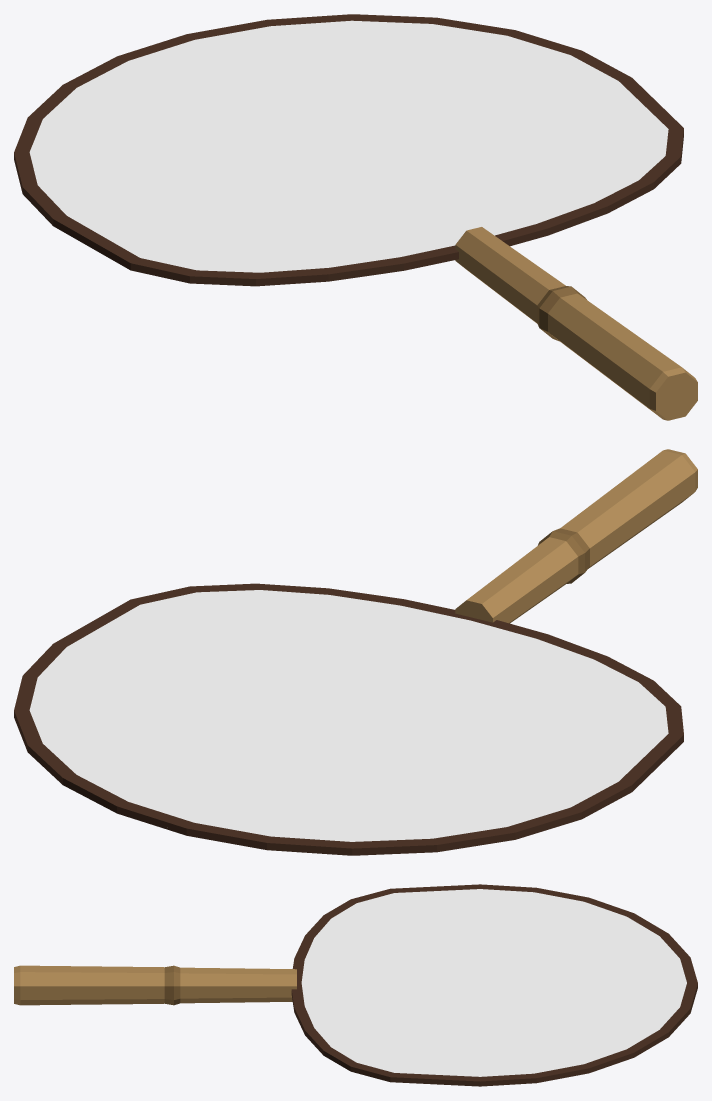
The model's file is uchiwa.glb.
3 views of the same model, one above another, from view 1: azimuth 30°, elevation 25°; view 2: azimuth 150°, elevation 25°; view 3: azimuth 270°, elevation 25° (orthographic). The views are drawn at different scales.
Visible parts, largest first — view 1: FanFace, FanRim, FanHandle; view 2: FanFace, FanRim, FanHandle; view 3: FanFace, FanHandle, FanRim.
Part boxes in pixels (bbox=[...]): FanFace: bbox=[29, 20, 668, 272]; FanRim: bbox=[14, 14, 683, 286]; FanHandle: bbox=[455, 227, 697, 420]; FanFace: bbox=[29, 590, 668, 841]; FanRim: bbox=[14, 583, 683, 855]; FanHandle: bbox=[455, 449, 697, 623]; FanFace: bbox=[301, 889, 686, 1076]; FanHandle: bbox=[14, 965, 296, 1005]; FanRim: bbox=[291, 884, 697, 1086].
Size of the model in its own units: 0.3 by 0.0237 by 0.44.
